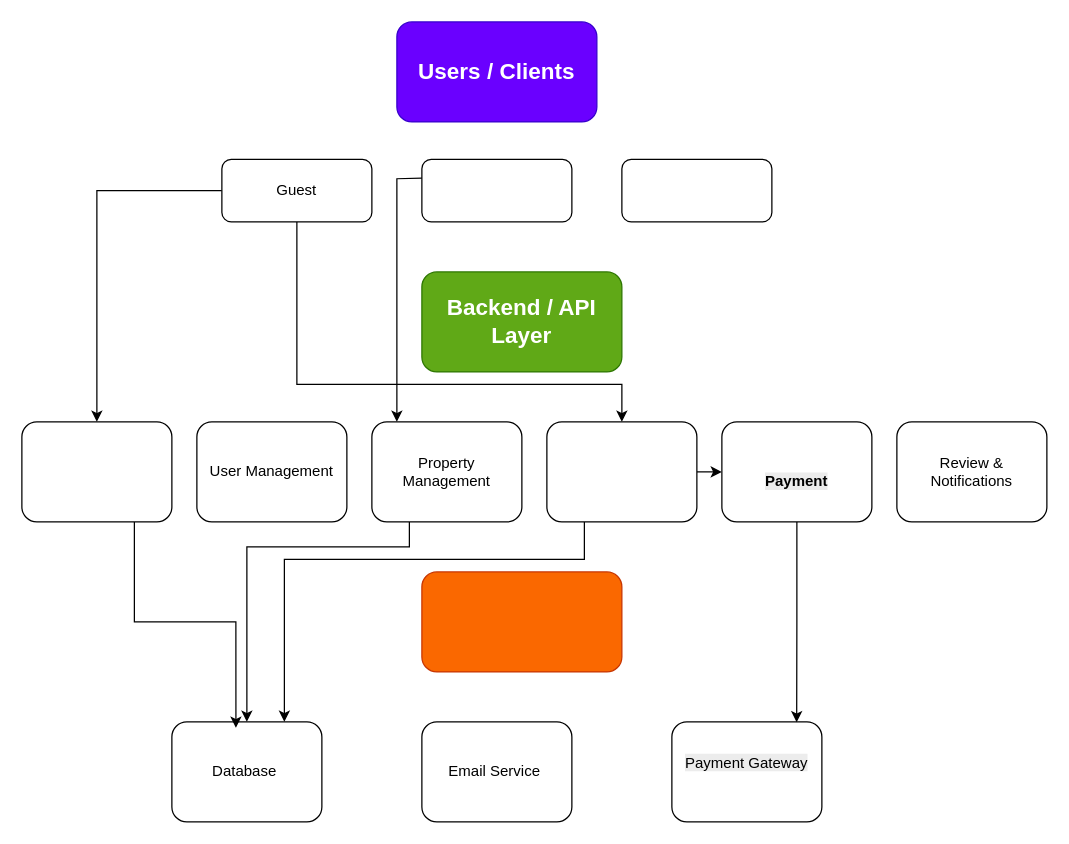
Some shapes in this 1069 by 844 pixel diagram are drawn without their labels. The shapes that lost their labels are listed below. From the top down, each one's box as (x1, y1, x2, y2) in pixels, then its label:
(421, 158, 572, 222): Host
(621, 158, 772, 222): Admin
(21, 421, 172, 522): Authentication
(546, 421, 697, 522): Booking
(421, 571, 622, 672): Data & External Services .
